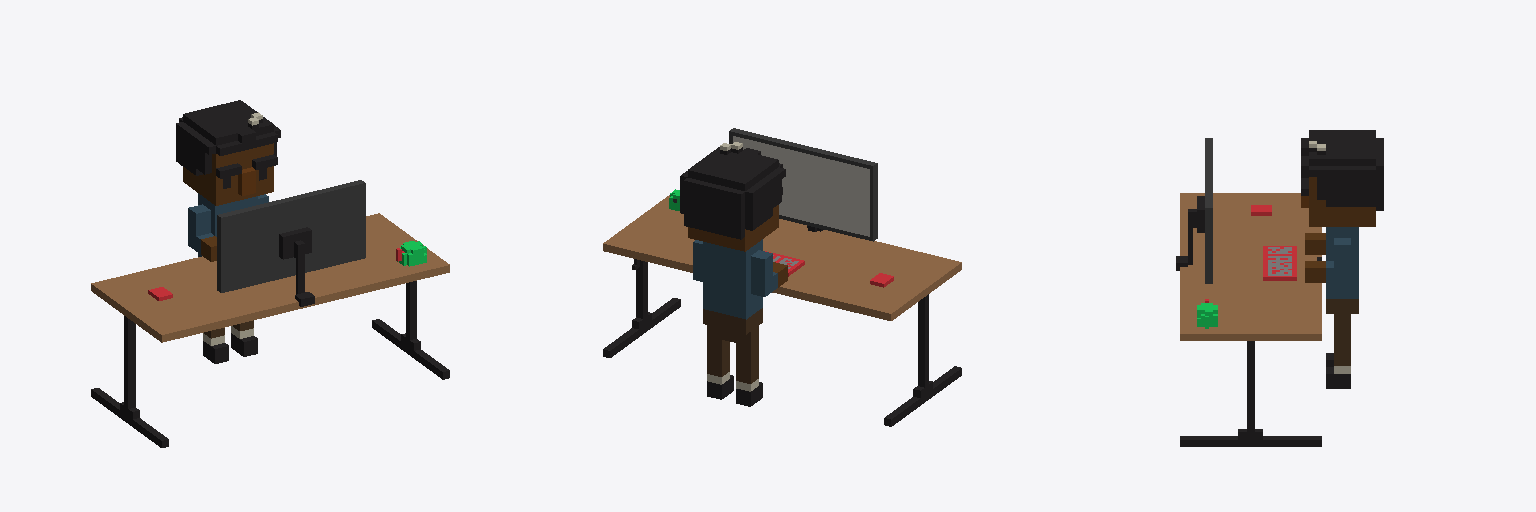
3 renders of one model, left to right at view 1: azimuth 30°, elevation 25°; view 2: azimuth 150°, elevation 25°; view 3: azimuth 270°, elevation 25°, orthographic.
Parts seen in each view (by area): view 1: object 1; view 2: object 1; view 3: object 1.
Boxes of the visible parts, x1=… form: object 1: x1=91, y1=100, x2=449, y2=447; object 1: x1=603, y1=128, x2=961, y2=426; object 1: x1=1176, y1=130, x2=1383, y2=446.
Bounding box in the file's own units: 8 × 6.4 × 5.
Materials: 1 (1 with a texture image).